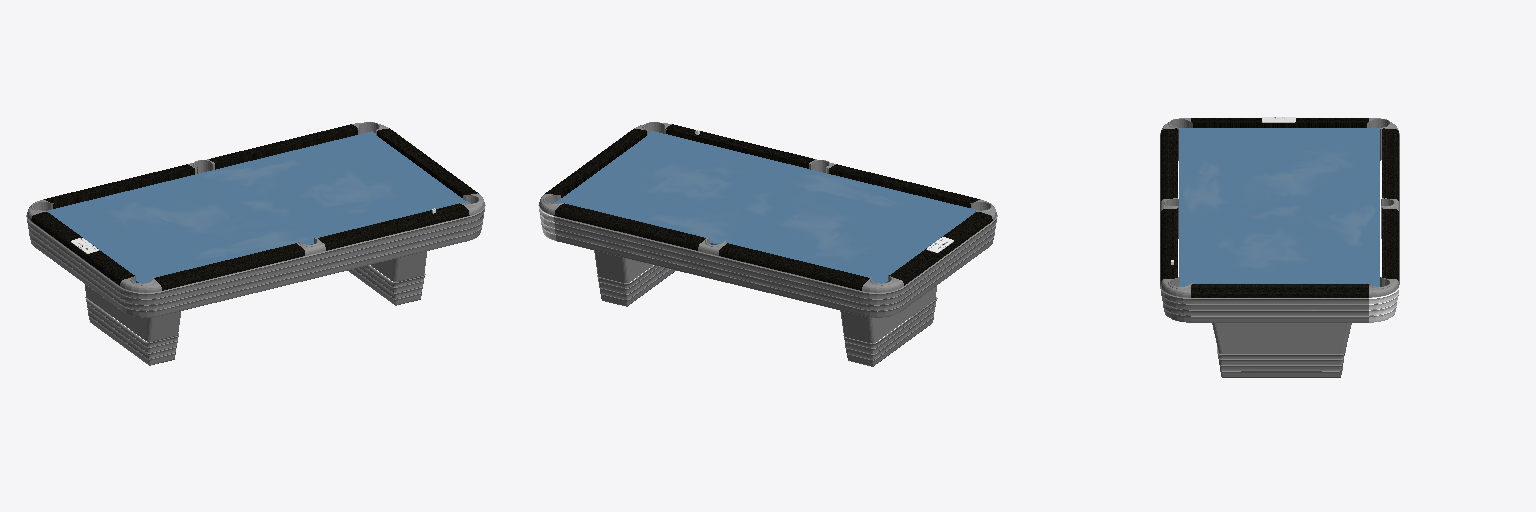
The picture shows the model from 3 angles: view 1: azimuth 30°, elevation 25°; view 2: azimuth 150°, elevation 25°; view 3: azimuth 270°, elevation 25°; orthographic projection.
Visible parts, largest first — view 1: objBox01, objobjSIDE01, objobjleg01, objobjleg02, objobjSIDEWOOD05, objobjSIDEWOOD04, objobjSIDE04, objobjSIDEWOOD02, objobjSIDEWOOD03, objobjSIDEWOOD01, objobjSIDEWOOD06, objobjCORNER04; view 2: objBox01, objobjSIDE02, objobjleg01, objobjleg02, objobjSIDEWOOD02, objobjSIDEWOOD03, objobjSIDE04, objobjSIDEWOOD01, objobjSIDEWOOD05, objobjSIDEWOOD04, objobjSIDEWOOD06, objobjCORNER03; view 3: objBox01, objobjleg02, objobjSIDE03, objobjSIDEWOOD06, objobjSIDEWOOD01, objobjSIDEWOOD03, objobjSIDEWOOD02, objobjSIDEWOOD05, objobjSIDEWOOD04, objobjCORNER02, objobjCORNER01.
Part boxes in pixels (bbox=[...]): objBox01: bbox=[48, 131, 470, 283]; objobjSIDE01: bbox=[160, 216, 469, 315]; objobjleg01: bbox=[85, 284, 180, 365]; objobjleg02: bbox=[348, 251, 426, 305]; objobjSIDEWOOD05: bbox=[154, 243, 304, 290]; objobjSIDEWOOD04: bbox=[318, 203, 469, 250]; objobjSIDE04: bbox=[31, 221, 122, 310]; objobjSIDEWOOD02: bbox=[209, 124, 357, 169]; objobjSIDEWOOD03: bbox=[44, 164, 194, 208]; objobjSIDEWOOD01: bbox=[31, 212, 134, 285]; objobjSIDEWOOD06: bbox=[377, 128, 478, 197]; objobjCORNER04: bbox=[119, 286, 161, 317]; objBox01: bbox=[553, 131, 978, 283]; objobjSIDE02: bbox=[554, 216, 863, 315]; objobjleg01: bbox=[840, 286, 937, 366]; objobjleg02: bbox=[594, 251, 675, 306]; objobjSIDEWOOD02: bbox=[554, 203, 705, 250]; objobjSIDEWOOD03: bbox=[719, 243, 869, 290]; objobjSIDE04: bbox=[901, 221, 992, 310]; objobjSIDEWOOD01: bbox=[889, 212, 992, 285]; objobjSIDEWOOD05: bbox=[829, 164, 979, 207]; objobjSIDEWOOD04: bbox=[666, 124, 814, 168]; objobjSIDEWOOD06: bbox=[545, 129, 646, 197]; objobjCORNER03: bbox=[862, 286, 904, 317]; objBox01: bbox=[1179, 128, 1379, 286]; objobjleg02: bbox=[1212, 323, 1351, 377]; objobjSIDE03: bbox=[1191, 298, 1368, 322]; objobjSIDEWOOD06: bbox=[1191, 284, 1368, 297]; objobjSIDEWOOD01: bbox=[1191, 118, 1368, 127]; objobjSIDEWOOD03: bbox=[1382, 128, 1398, 200]; objobjSIDEWOOD02: bbox=[1382, 208, 1398, 280]; objobjSIDEWOOD05: bbox=[1161, 128, 1177, 200]; objobjSIDEWOOD04: bbox=[1161, 208, 1177, 280]; objobjCORNER02: bbox=[1160, 285, 1190, 322]; objobjCORNER01: bbox=[1369, 285, 1399, 322].
Size of the model in its own units: 106 by 31.14 by 61.01.
4 materials, 2 textured.